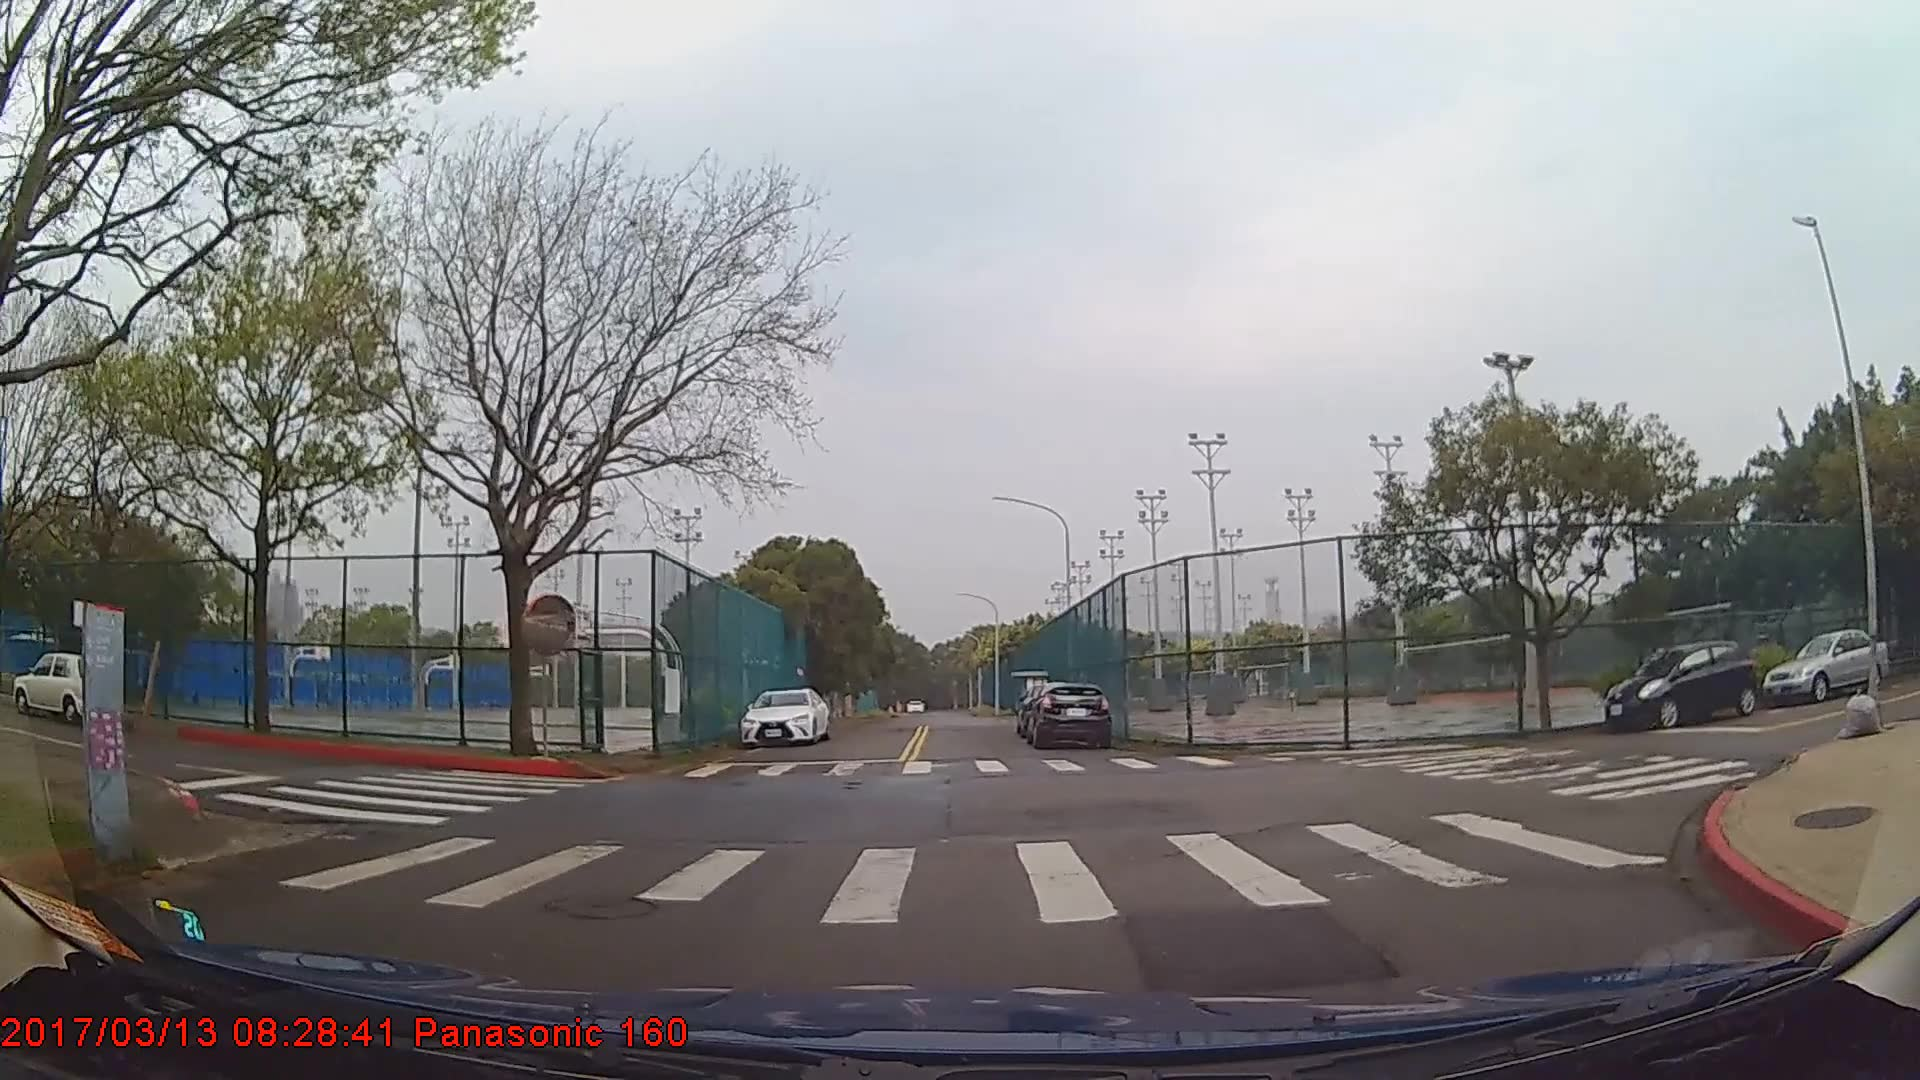vehicle: (1602, 638, 1755, 729), (1763, 624, 1892, 705), (15, 651, 113, 724), (1025, 682, 1109, 752), (742, 687, 831, 749)
